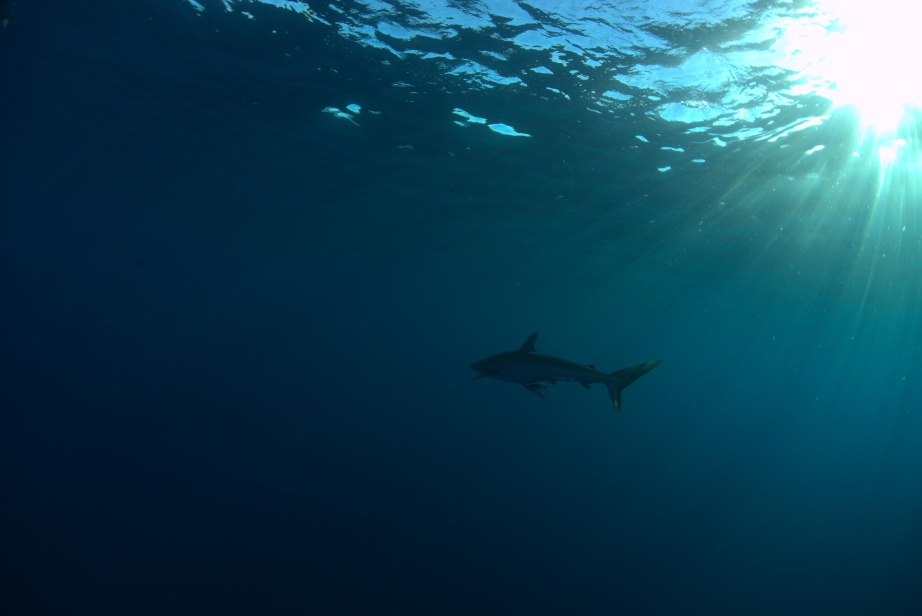Sedoso: (453, 323, 687, 414)
